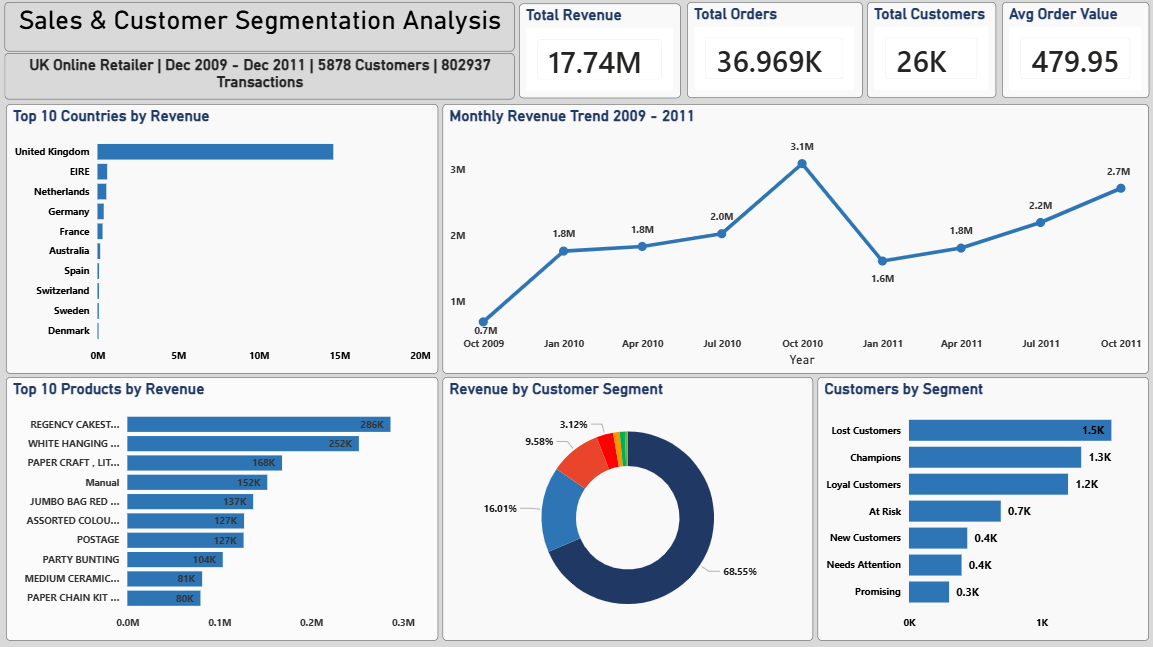

The dashboard page shown, as its layout file describes it:
{"tool":"powerbi","page":{"name":"Page 1","canvas":[1280,720],"ordinal":0},"visuals":[{"type":"shape","title":"Sales & Customer Segmentation Analysis ","box":[7.7,6.4,563.2,54.7],"z":0,"group":"g1"},{"type":"cardVisual","title":"Total Customers","fields":{"Data":["Segment Summary.Total Customers"]},"box":[960.8,6.6,142.5,106],"z":0},{"type":"cardVisual","title":"Total Revenue","fields":{"Data":["Segment Summary.Total Revenue"]},"box":[576.5,8.3,178.9,104.4],"z":1000},{"type":"textbox","title":"UK Online Retailer | Dec 2009 - Dec 2011 | 5878 Customers | 802937 Transactions","box":[7.7,62,563.2,51.4],"z":1000,"group":"g1"},{"type":"cardVisual","title":"Avg Order Value","fields":{"Data":["Segment Summary.Avg Order Value"]},"box":[1109.8,6.6,162.3,106],"z":2000},{"type":"cardVisual","title":"Total Orders","fields":{"Data":["Segment Summary.Total Orders"]},"box":[762,6.6,193.8,106],"z":3000},{"type":"lineChart","title":"Monthly Revenue Trend 2009 - 2011","fields":{"Category":["Monthly Revenue.month.Variation.Date Hierarchy.Year","Monthly Revenue.month.Variation.Date Hierarchy.Quarter","Monthly Revenue.month.Variation.Date Hierarchy.Month","Monthly Revenue.month.Variation.Date Hierarchy.Day"],"Y":["Sum(Monthly Revenue.monthly_revenue)"]},"box":[492,119.3,780.2,298.2],"z":4000},{"type":"clusteredBarChart","title":"Top 10 Products by Revenue","fields":{"Category":["Top Products.description"],"Y":["Sum(Top Products.total_revenue)"]},"box":[9.9,420.7,477.1,291.5],"z":5000},{"type":"donutChart","title":"Revenue by Customer Segment","fields":{"Category":["Segment Summary.segment"],"Y":["Sum(Segment Summary.total_revenue)"]},"box":[492,420.7,409.2,291.5],"z":6000},{"type":"clusteredBarChart","title":"Top 10 Countries by Revenue","fields":{"Category":["Country Revenue.country"],"Y":["Sum(Country Revenue.total_revenue)"]},"box":[9.9,119.3,477.1,298.2],"z":7000},{"type":"clusteredBarChart","title":"Customers by Segment","fields":{"Category":["Segment Summary.segment"],"Y":["Sum(Segment Summary.total_customers)"]},"box":[906.1,420.7,366.1,291.5],"z":8000},{"type":"group","id":"g1","title":"Group 2","box":[7.7,6.4,563.2,107],"z":9003}]}

Visuals, with their boxes in screenshot pixels (x1, y1, x2, y2), scaled from the page's 1280x720 canvas onto the 1153x647 screenshot:
"Sales & Customer Segmentation Analysis " shape: crop(7, 6, 514, 55)
"Total Customers" cardVisual: crop(865, 6, 994, 101)
"Total Revenue" cardVisual: crop(519, 7, 680, 101)
"UK Online Retailer | Dec 2009 - Dec 2011 | 5878 Customers | 802937 Transactions" textbox: crop(7, 56, 514, 102)
"Avg Order Value" cardVisual: crop(1000, 6, 1146, 101)
"Total Orders" cardVisual: crop(686, 6, 861, 101)
"Monthly Revenue Trend 2009 - 2011" lineChart: crop(443, 107, 1146, 375)
"Top 10 Products by Revenue" clusteredBarChart: crop(9, 378, 439, 640)
"Revenue by Customer Segment" donutChart: crop(443, 378, 812, 640)
"Top 10 Countries by Revenue" clusteredBarChart: crop(9, 107, 439, 375)
"Customers by Segment" clusteredBarChart: crop(816, 378, 1146, 640)
"Group 2" group: crop(7, 6, 514, 102)
